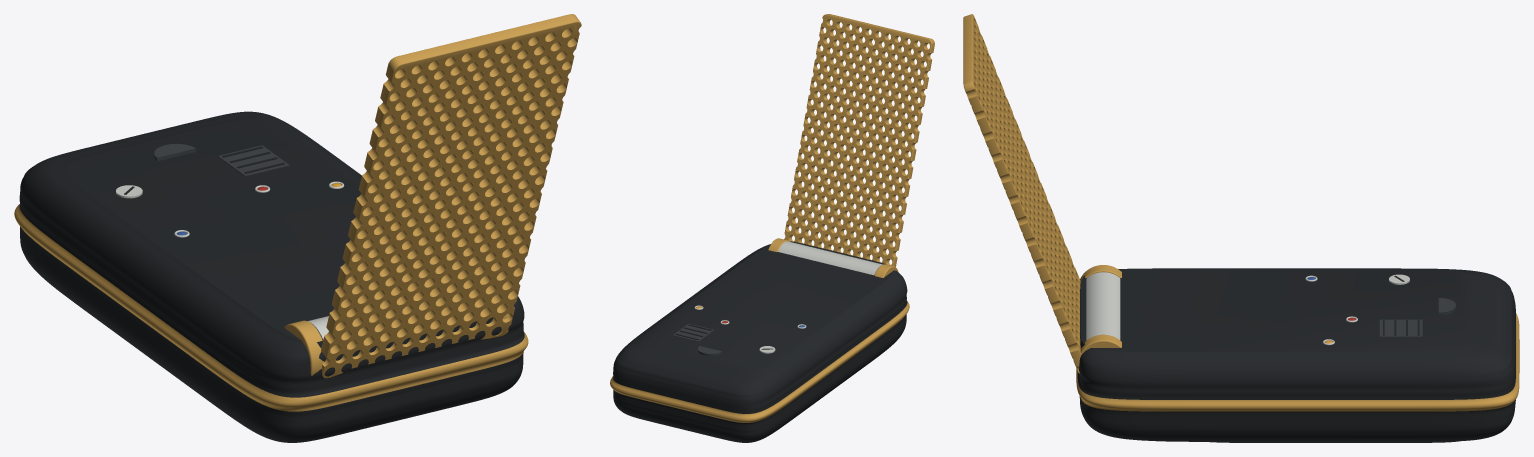
File: communicator.glb
3 views of the same model, side by side, from view 1: azimuth 30°, elevation 25°; view 2: azimuth 150°, elevation 25°; view 3: azimuth 270°, elevation 25° (orthographic). The views are drawn at different scales.
Parts seen in each view (by area): view 1: upper body shell, antenna (perforated grille), removable bottom (lower body shell), gold equatorial band, vent, hinge post; view 2: upper body shell, antenna (perforated grille), removable bottom (lower body shell), gold equatorial band, tuned ferrite loop, vent; view 3: upper body shell, removable bottom (lower body shell), antenna (perforated grille), gold equatorial band, tuned ferrite loop, vent.
Part boxes in pixels (bbox=[...]): upper body shell: bbox=[19, 111, 524, 397]; antenna (perforated grille): bbox=[321, 14, 581, 378]; removable bottom (lower body shell): bbox=[20, 226, 523, 442]; gold equatorial band: bbox=[14, 204, 528, 411]; vent: bbox=[218, 145, 289, 176]; hinge post: bbox=[284, 320, 323, 375]; upper body shell: bbox=[613, 241, 907, 413]; antenna (perforated grille): bbox=[784, 14, 934, 266]; removable bottom (lower body shell): bbox=[613, 314, 906, 442]; gold equatorial band: bbox=[610, 301, 909, 422]; tuned ferrite loop: bbox=[778, 241, 882, 275]; vent: bbox=[672, 323, 714, 341]; upper body shell: bbox=[1077, 268, 1515, 399]; removable bottom (lower body shell): bbox=[1079, 396, 1515, 442]; antenna (perforated grille): bbox=[963, 14, 1081, 373]; gold equatorial band: bbox=[1076, 313, 1519, 411]; tuned ferrite loop: bbox=[1086, 272, 1120, 340]; vent: bbox=[1379, 319, 1422, 336].
Bounding box in the file's own units: 0.0635 × 0.1001 × 0.1421.
